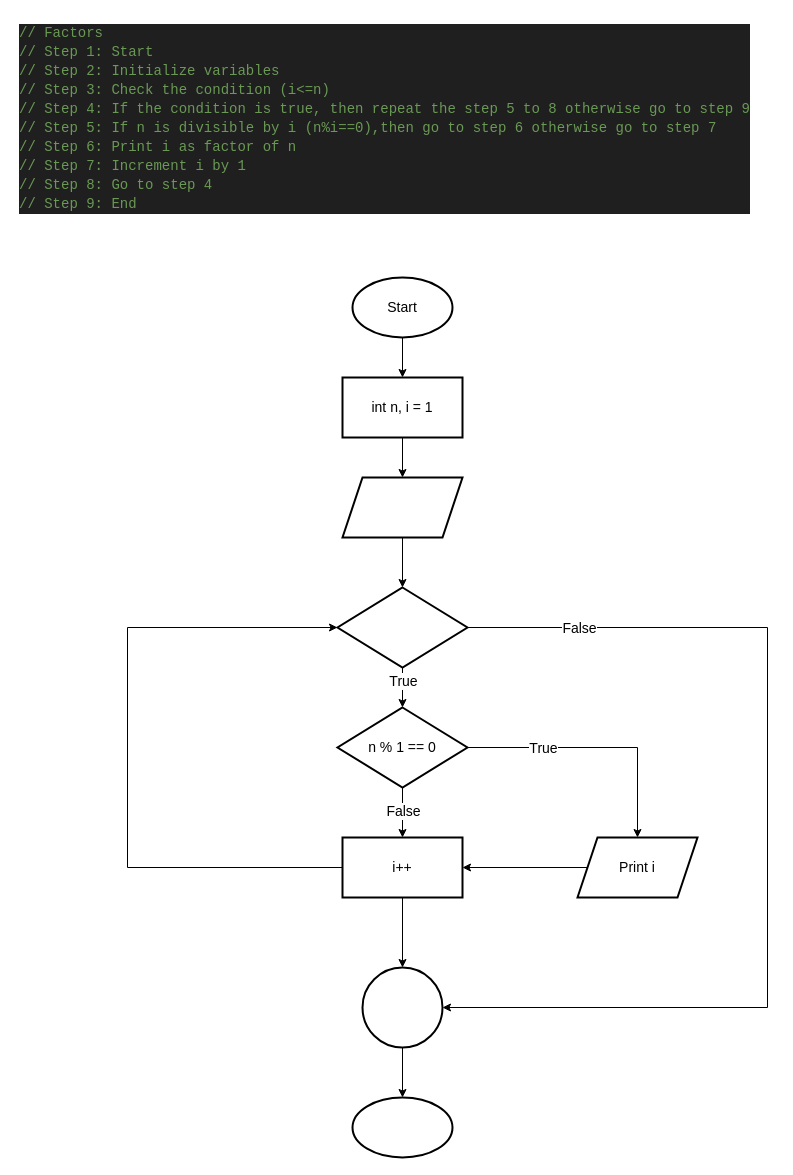
This 793x1175 diagram has some shape labels left out. The centre of each missing label's shape, as x and y in pixels:
End: (402,1127)
Enter n: (402,507)
i <= n: (402,627)
